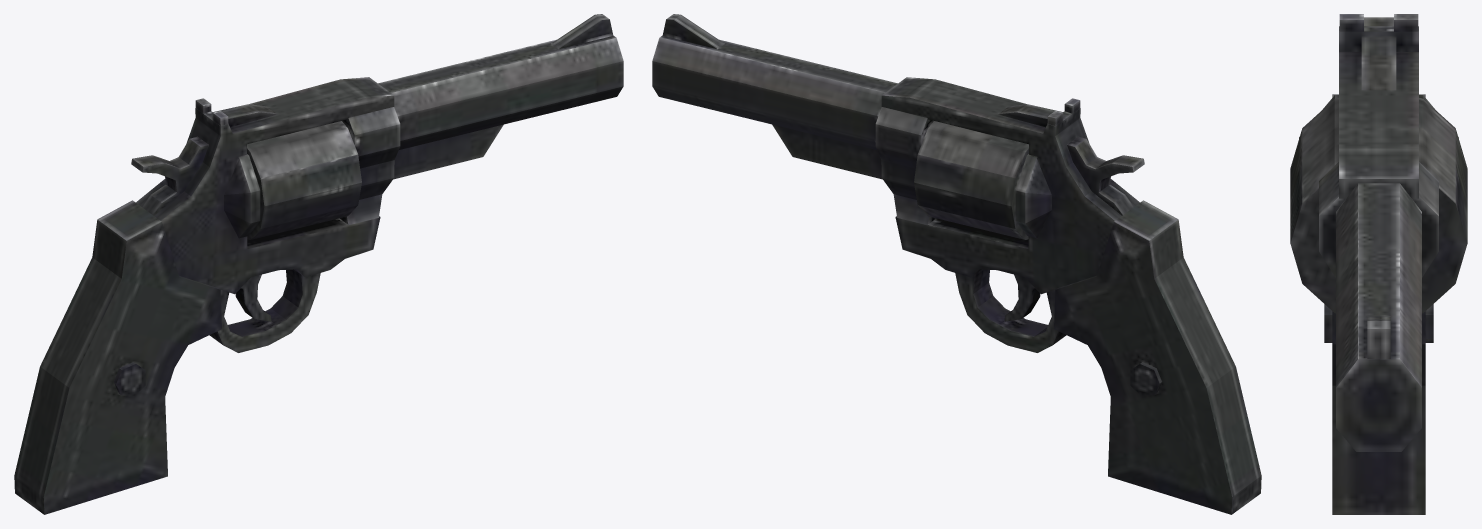
File: basegun_a.glb
3 renders of one model, left to right at view 1: azimuth 30°, elevation 25°; view 2: azimuth 150°, elevation 25°; view 3: azimuth 270°, elevation 25°, orthographic. The views are drawn at different scales.
Parts seen in each view (by area): view 1: SM_BaseGun_A_LOD0; view 2: SM_BaseGun_A_LOD0; view 3: SM_BaseGun_A_LOD0.
Boxes of the visible parts, x1,y1,x2,y2 form: SM_BaseGun_A_LOD0: [14, 14, 623, 514]; SM_BaseGun_A_LOD0: [652, 14, 1261, 514]; SM_BaseGun_A_LOD0: [1290, 14, 1467, 514].
Bounding box in the file's own units: 0.3601 × 0.2081 × 0.06.
1 material, 1 textured.
